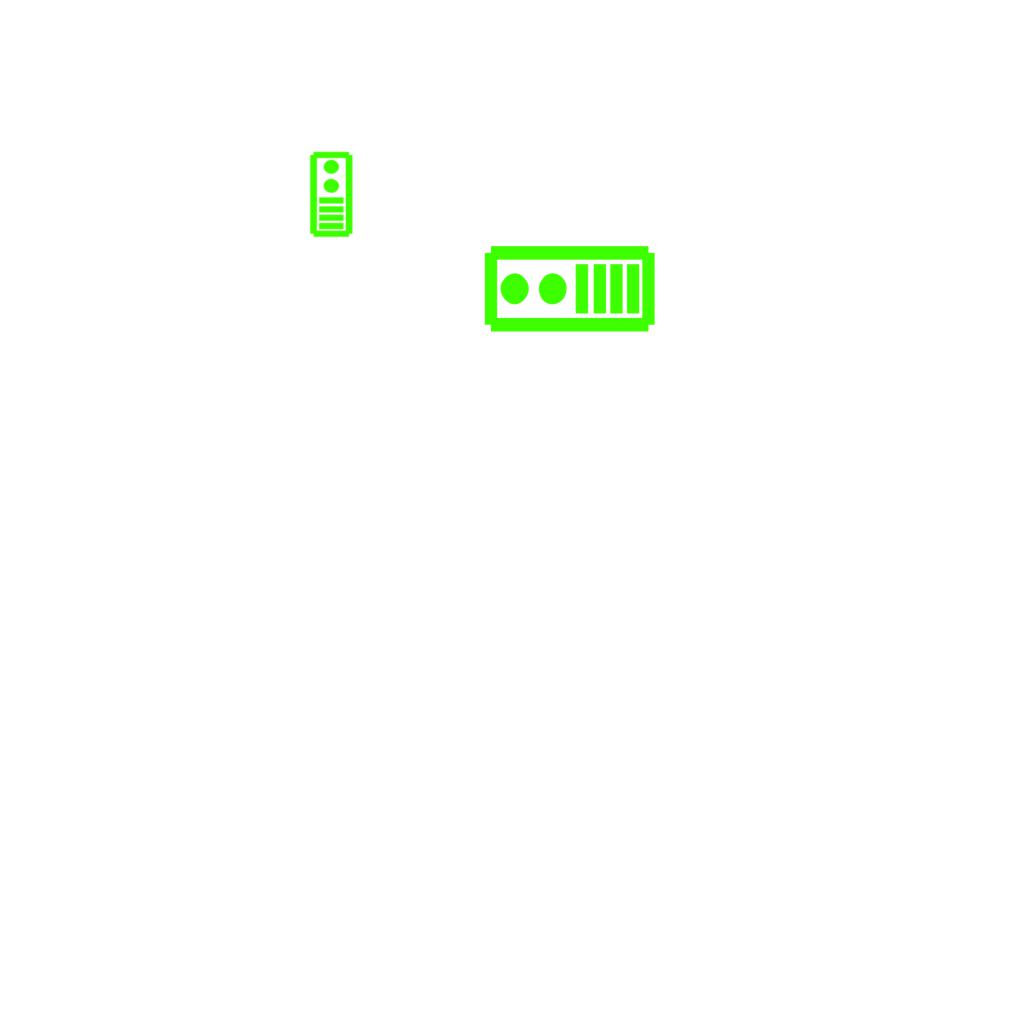Gegensprechanlage_mit_Video: (481, 243, 657, 338), (307, 150, 354, 238)
